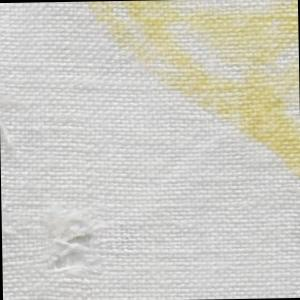Damage: (46, 210, 101, 281)
Stain: (84, 1, 300, 186)
